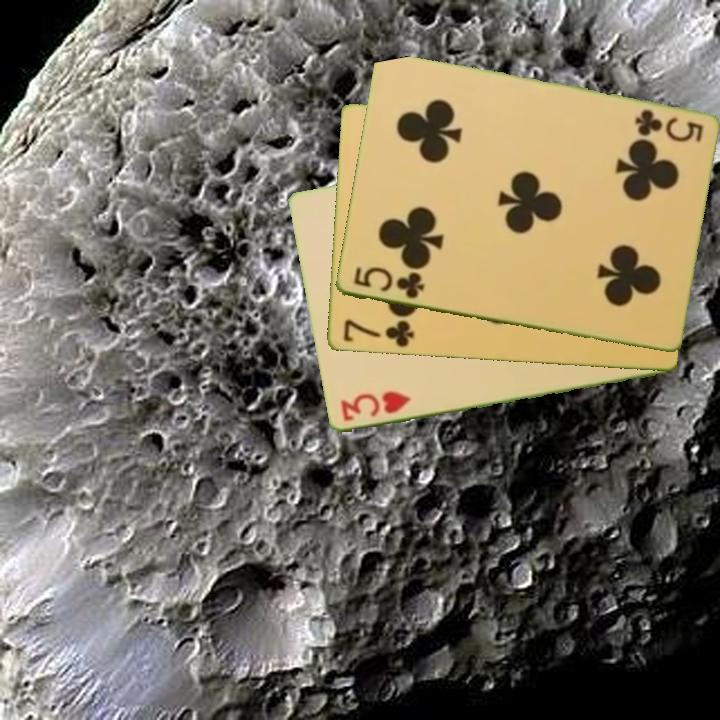3h: (337, 388, 414, 425)
5c: (350, 263, 427, 302), (631, 106, 705, 145)
7c: (339, 316, 417, 350)
